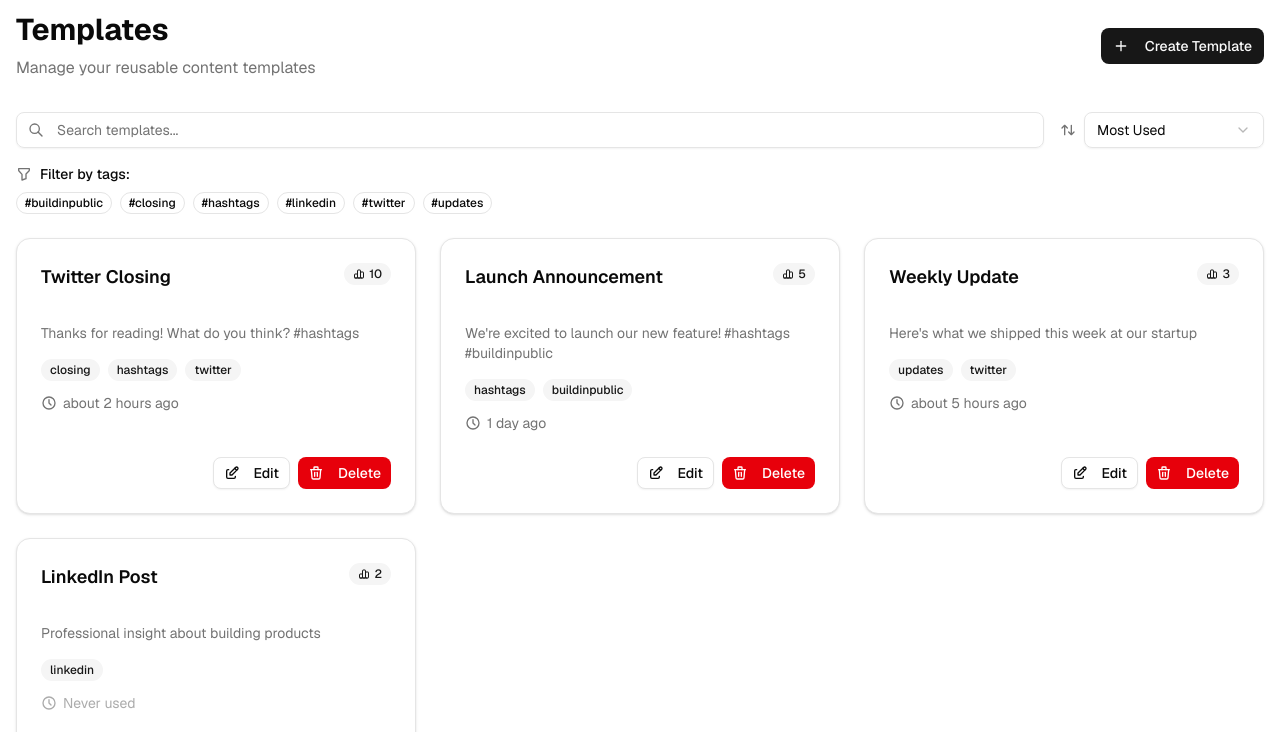
Scenario: TemplateLibrary - Search and Filter › Tag Filtering › should filter templates by single tag
// Click on "linkedin" tag
Click the text "#linkedin". click: (311,203)
box: [277,192,345,214]
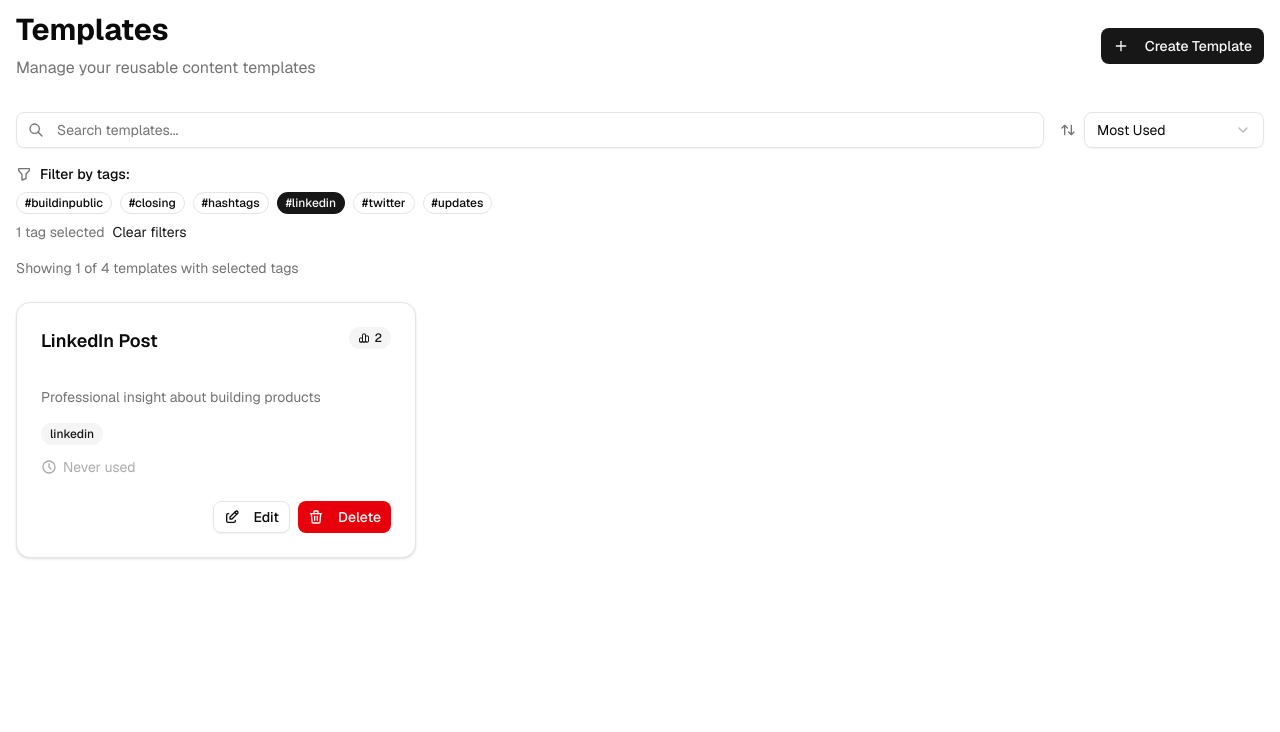
Expected: the text "Launch Announcement" is gone
Expected: the text "Weekly Update" is gone
Expected: the text "Twitter Closing" is gone
